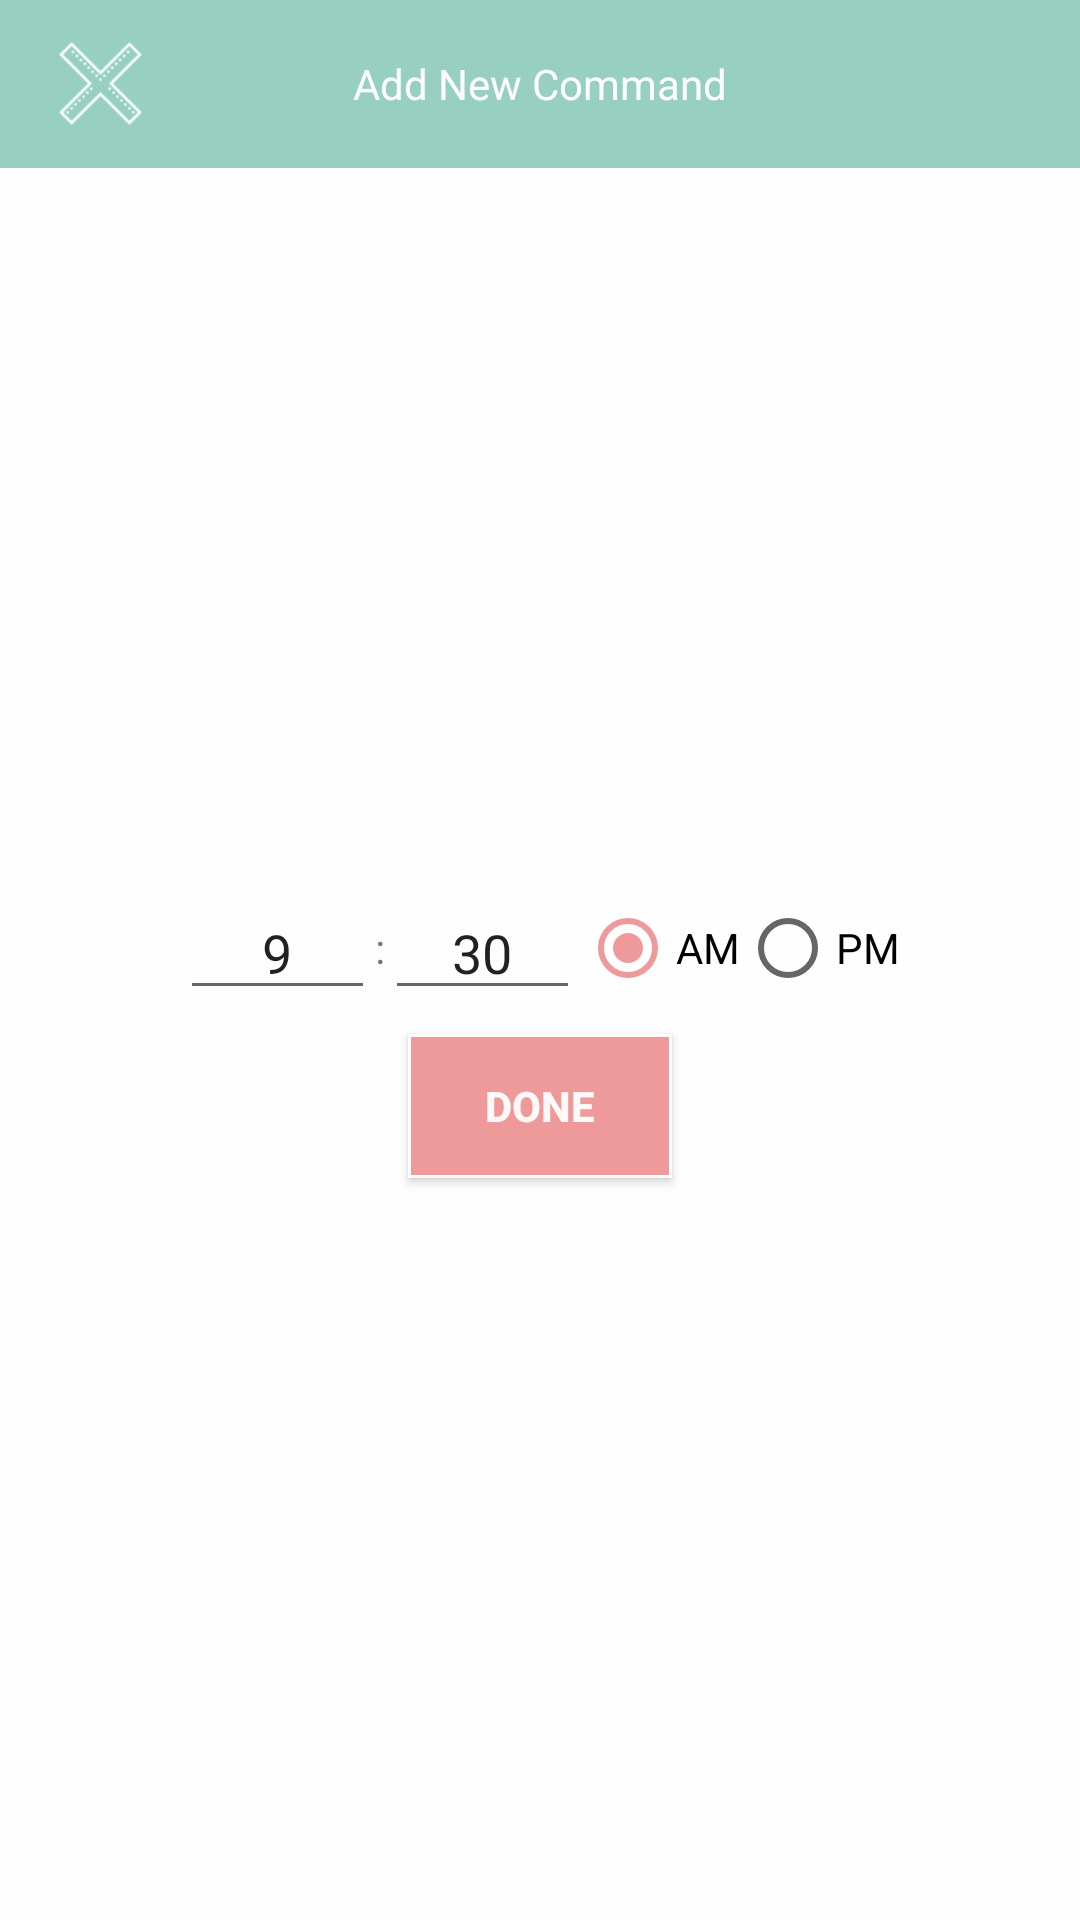

Point at icon controls on the screen. Image size 1080px x 1920px, points as point (x, y).
close: point (100, 83)
